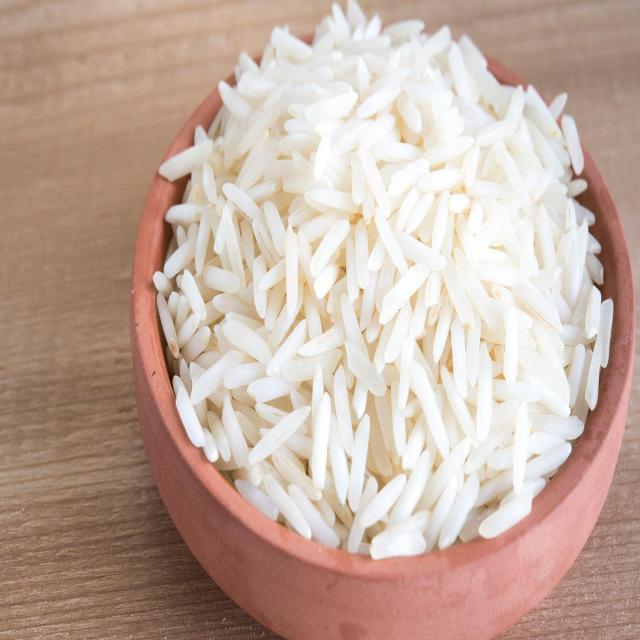Rice: (130, 0, 631, 640)
